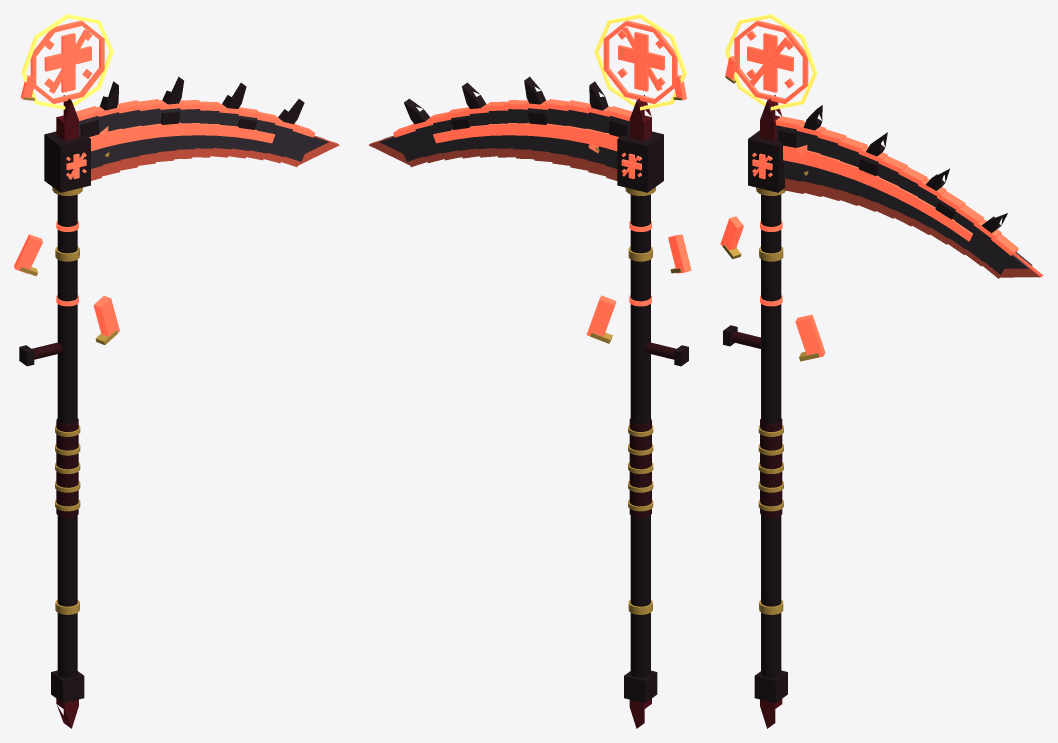
The picture shows the model from 3 angles, left to right: view 1: azimuth 30°, elevation 25°; view 2: azimuth 150°, elevation 25°; view 3: azimuth 330°, elevation 25°; orthographic projection.
Parts seen in each view (by area): view 1: cinder-lich-scythe; view 2: cinder-lich-scythe; view 3: cinder-lich-scythe.
Boxes of the visible parts, x1,y1,x2,y2 form: cinder-lich-scythe: [14, 14, 339, 728]; cinder-lich-scythe: [368, 14, 691, 728]; cinder-lich-scythe: [720, 14, 1043, 728].
Size of the model in its own units: 0.9684 by 2.04 by 0.1053.
